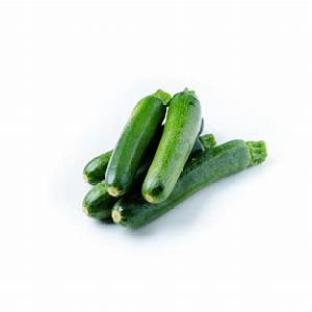Zucchini: (112, 140, 266, 227), (105, 91, 170, 196), (142, 89, 201, 203), (84, 181, 118, 219), (84, 150, 113, 185)
